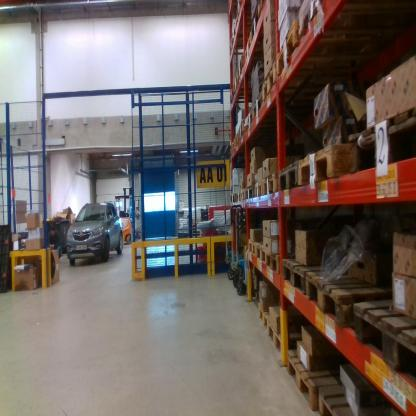forklift: (108, 185, 135, 251)
pallet: (304, 265, 397, 331), (355, 93, 414, 188), (353, 301, 414, 383), (283, 334, 344, 413), (297, 3, 397, 42), (298, 134, 361, 189), (279, 251, 343, 301), (271, 312, 313, 372), (258, 66, 303, 107), (317, 381, 362, 414), (274, 18, 295, 86), (250, 4, 282, 46), (279, 152, 308, 198), (243, 25, 267, 80), (247, 91, 276, 134), (254, 299, 285, 337), (230, 72, 255, 105), (261, 241, 283, 277), (261, 165, 281, 200), (234, 51, 253, 87), (254, 238, 266, 268), (254, 171, 264, 203), (239, 120, 251, 146), (230, 123, 240, 152), (235, 2, 249, 22), (246, 183, 257, 203), (248, 235, 255, 255), (242, 185, 247, 205), (237, 187, 241, 205), (232, 190, 237, 202)
pallet_truck: (230, 200, 257, 297), (218, 202, 231, 279), (227, 200, 235, 294)
